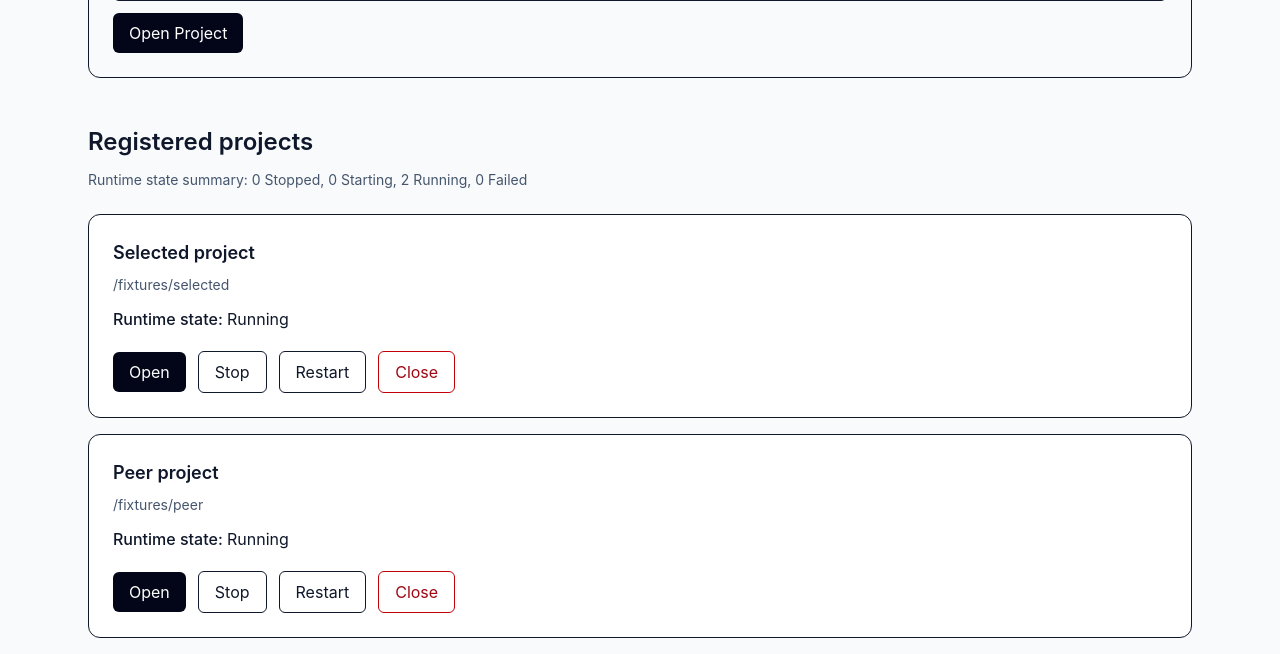
Test: BL-018 scenario 14: home-restart-accessibility-and-focus › announces the client-owned project_not_found rejection in an alert with Retry and discloses nothing protected
The width and height of the screenshot is (1280, 654).
(page scrolled)
Expected: the text labelled "Runtime state summary" is shown, [88,171,527,188]
Click the button with aria-label "Restart Selected project workbench": (322, 372) [278,351,366,393]
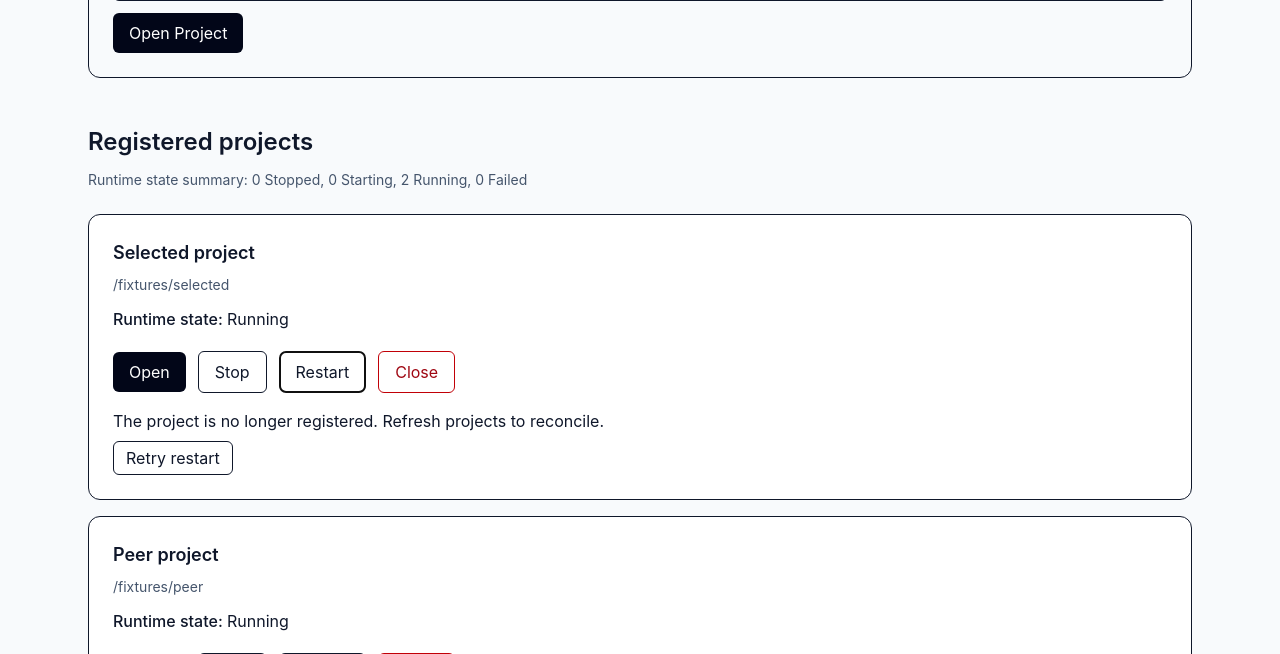
Expected: the message shows "The project is no longer registered. Refresh projects to reconcile.", [113,411,604,431]
Expected: the button "Retry restart" is shown, [113,441,233,475]
